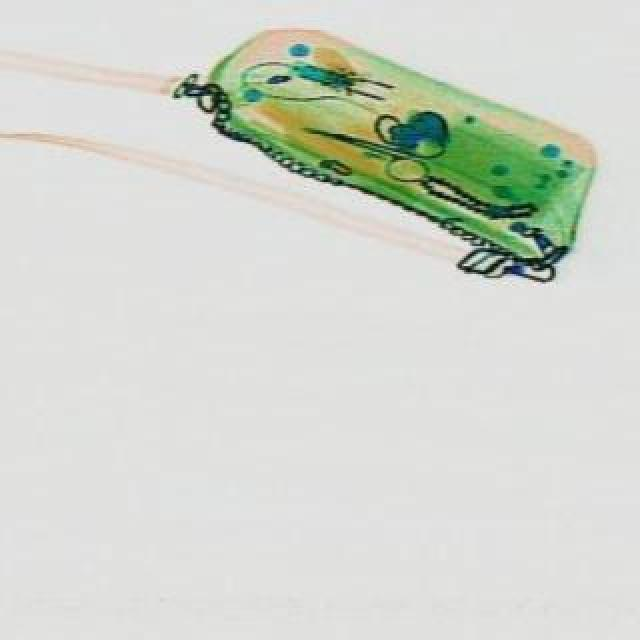pliers: (292, 106, 444, 194)
